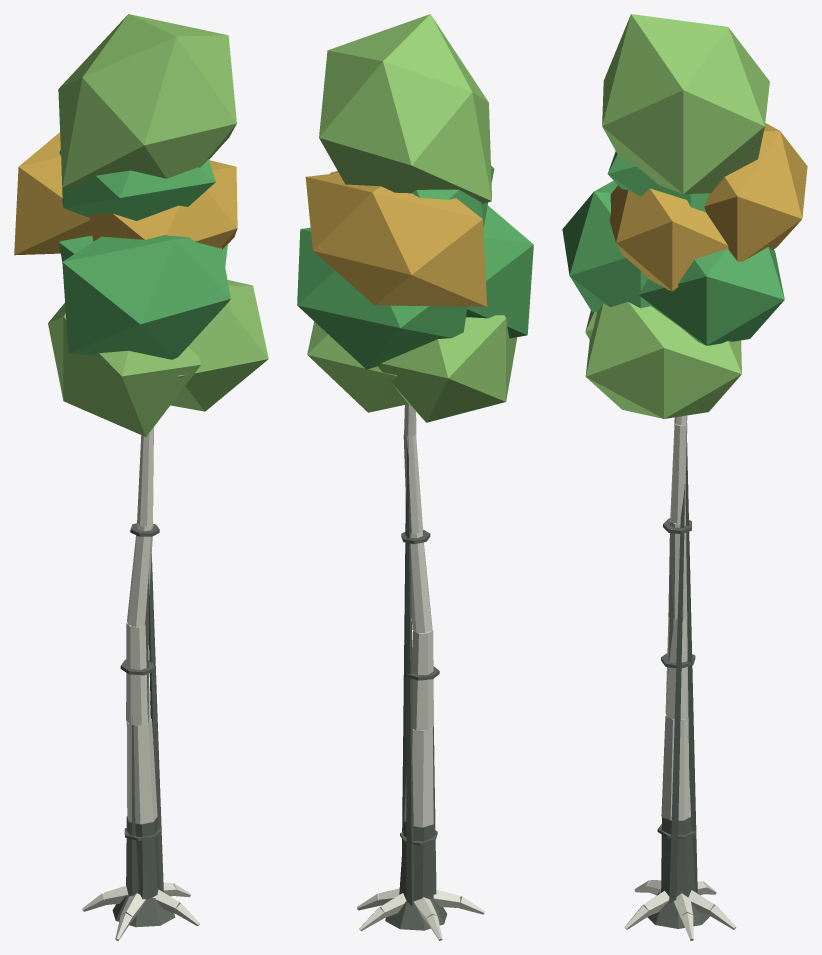
Rendered from tree_birch_c.glb.
The picture shows the model from 3 angles, left to right: view 1: azimuth 30°, elevation 25°; view 2: azimuth 150°, elevation 25°; view 3: azimuth 270°, elevation 25°; orthographic projection. The views are drawn at different scales.
Parts seen in each view (by area): view 1: TreeBirchC; view 2: TreeBirchC; view 3: TreeBirchC.
Boxes of the visible parts, x1,y1,x2,y2 form: TreeBirchC: (14,14,268,940); TreeBirchC: (297,14,533,940); TreeBirchC: (562,14,807,940).
Bounding box in the file's own units: 4.26 × 17.83 × 4.37.
